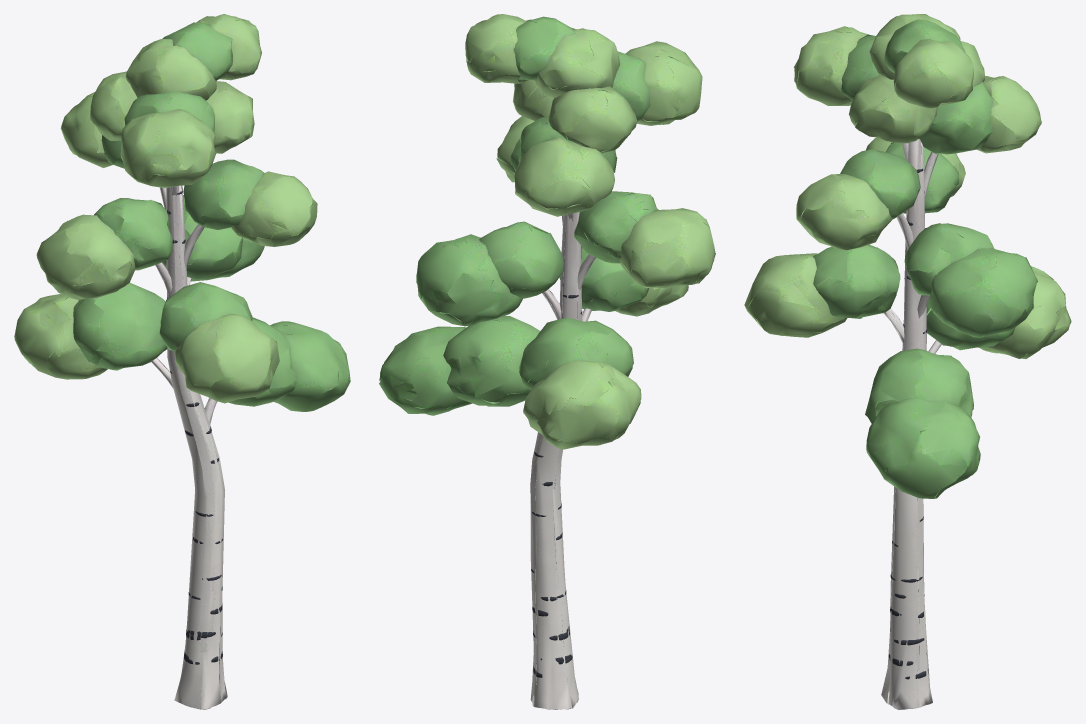
File: birch-tree.glb
The picture shows the model from 3 angles, left to right: view 1: azimuth 30°, elevation 25°; view 2: azimuth 150°, elevation 25°; view 3: azimuth 270°, elevation 25°; orthographic projection. The views are drawn at different scales.
Parts seen in each view (by area): view 1: birch-tree_body, birch-tree_bark_marks; view 2: birch-tree_body, birch-tree_bark_marks; view 3: birch-tree_body, birch-tree_bark_marks.
Part boxes in pixels (x1,y1,x2,y2): birch-tree_body: [14, 14, 350, 709]; birch-tree_bark_marks: [167, 186, 223, 665]; birch-tree_body: [379, 14, 715, 709]; birch-tree_bark_marks: [531, 283, 582, 677]; birch-tree_body: [744, 14, 1071, 709]; birch-tree_bark_marks: [888, 168, 928, 679].
Size of the model in its own units: 3.19 by 6.64 by 2.91.
2 materials, 1 textured.
